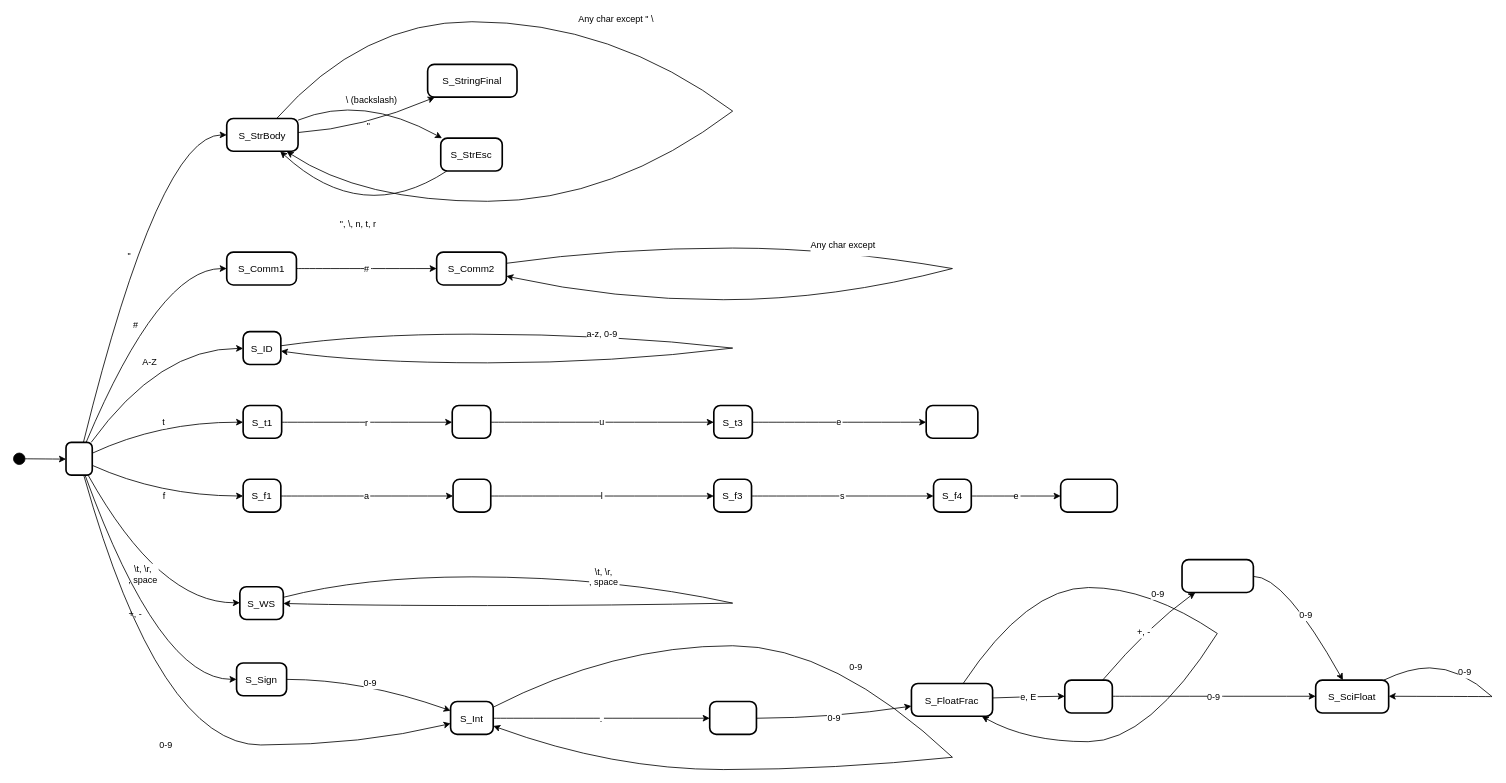
The diagram is 1506 pixels wide and 783 high, and some of its shapes have lost their labels. Each missing label, with the centre of its shape:
S0: (x=79, y=458)
S_Dot: (x=732, y=717)
S_Exp: (x=1088, y=696)
S_ExpSign: (x=1217, y=575)
S_f2: (x=471, y=495)
S_False: (x=1088, y=495)
S_t2: (x=471, y=421)
S_True: (x=951, y=421)
